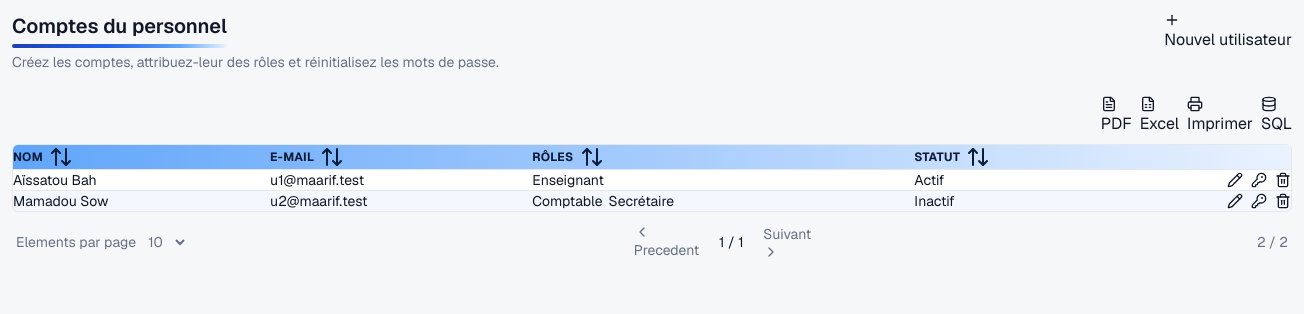
UsersPage › deleting an account › shows the server's refusal, e.g. deleting one's own account
Expected: the text "Aïssatou Bah" is shown, x1=13 y1=170 x2=270 y2=190
Click the button named "Supprimer le compte de Aïssatou Bah": (1283,180) x1=1275 y1=172 x2=1291 y2=188
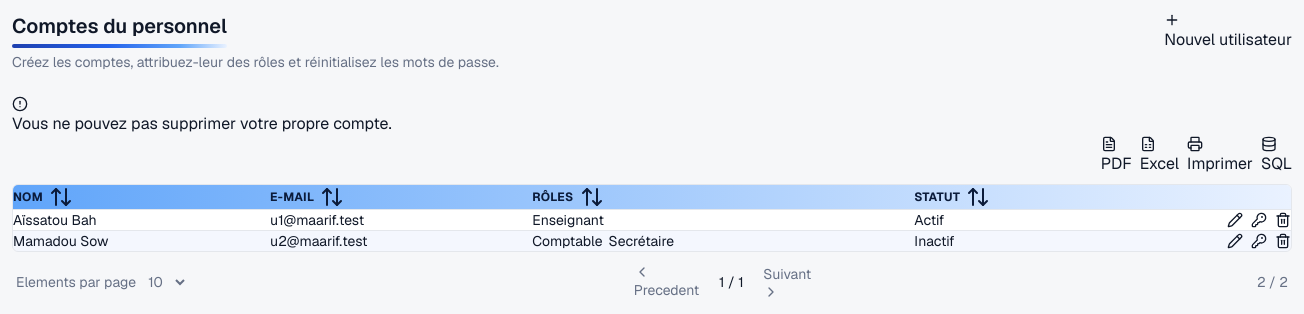
Expected: the text "Aïssatou Bah" is shown, x1=13 y1=210 x2=270 y2=230
Expected: the message reads "Vous ne pouvez pas supprimer votre propre compte.", x1=12 y1=113 x2=392 y2=134
